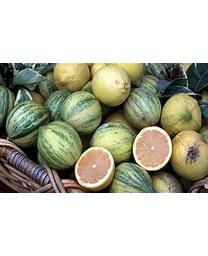lemon: (8, 101, 50, 154), (39, 123, 82, 168), (58, 91, 103, 133), (89, 122, 138, 160), (132, 127, 173, 172), (169, 131, 207, 178), (75, 147, 116, 190), (160, 96, 200, 135), (92, 65, 131, 105), (125, 86, 160, 129)
